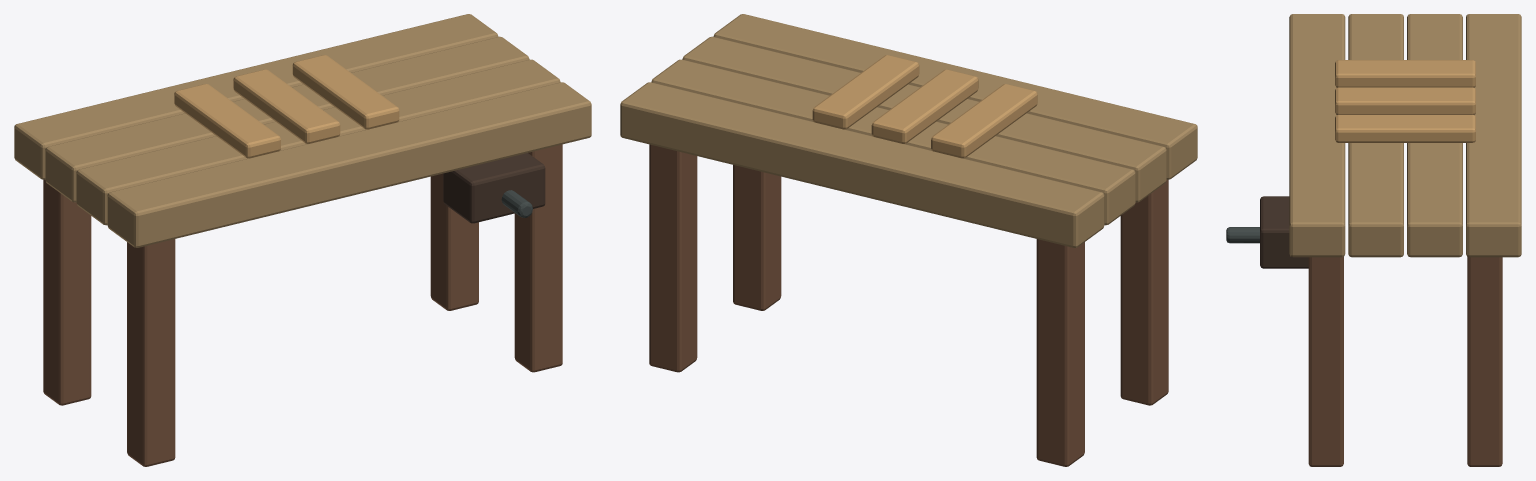
File: prop_workbench__attachments.glb
3 views of the same model, side by side, from view 1: azimuth 30°, elevation 25°; view 2: azimuth 150°, elevation 25°; view 3: azimuth 270°, elevation 25° (orthographic). The views are drawn at different scales.
Visible parts, largest first — view 1: prop_workbench__attachments__mesh_00; view 2: prop_workbench__attachments__mesh_00; view 3: prop_workbench__attachments__mesh_00.
Boxes of the visible parts, x1,y1,x2,y2 form: prop_workbench__attachments__mesh_00: [14, 14, 591, 466]; prop_workbench__attachments__mesh_00: [620, 14, 1197, 466]; prop_workbench__attachments__mesh_00: [1226, 14, 1521, 466].
Size of the model in its own units: 1.7 by 1.01 by 1.01.
